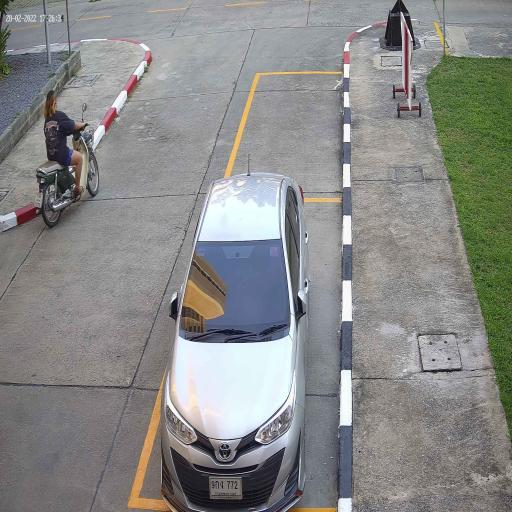car: (159, 171, 309, 512)
motorcycle: (36, 145, 100, 229)
